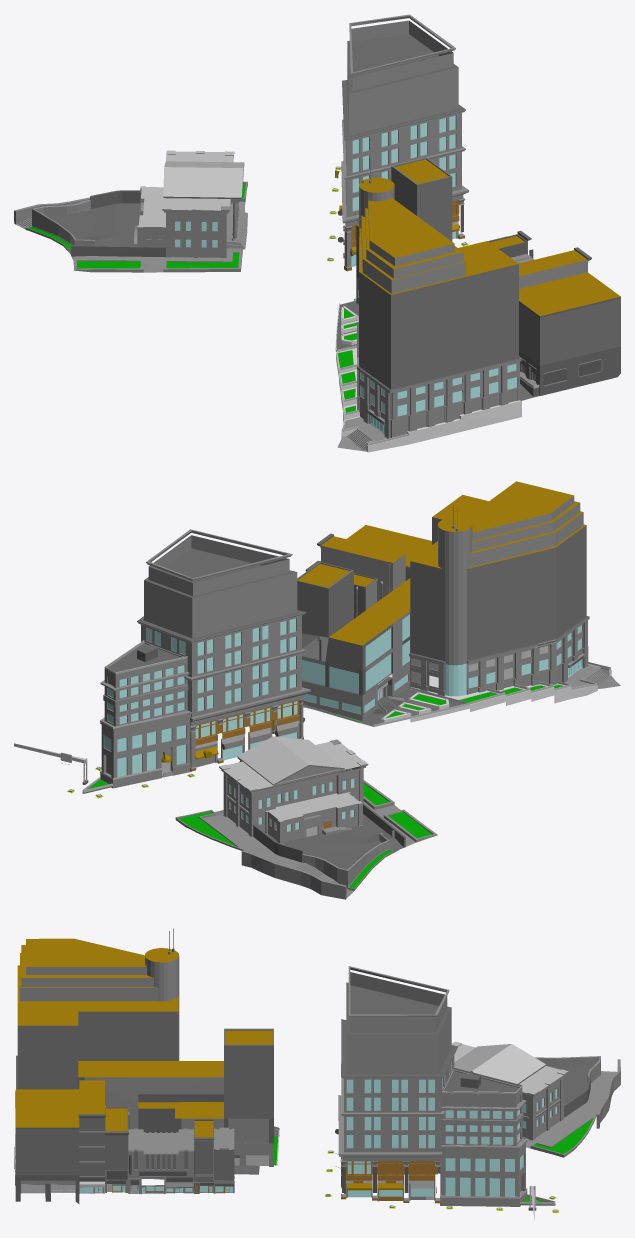
File: brook_n_6.FBX
3 views of the same model, one above another, from view 1: azimuth 30°, elevation 25°; view 2: azimuth 150°, elevation 25°; view 3: azimuth 270°, elevation 25° (orthographic). The views are drawn at different scales.
Visible parts, largest first — view 1: unnamed, null; view 2: unnamed, null; view 3: unnamed, null.
Part boxes in pixels (<box>): unnamed: <box>225,14,620,452</box>; null: <box>14,150,358,335</box>; unnamed: <box>14,481,620,836</box>; null: <box>196,619,437,899</box>; unnamed: <box>14,928,586,1220</box>; null: <box>214,1041,620,1142</box>.
Bounding box in the file's own units: 166 × 87.71 × 224.
